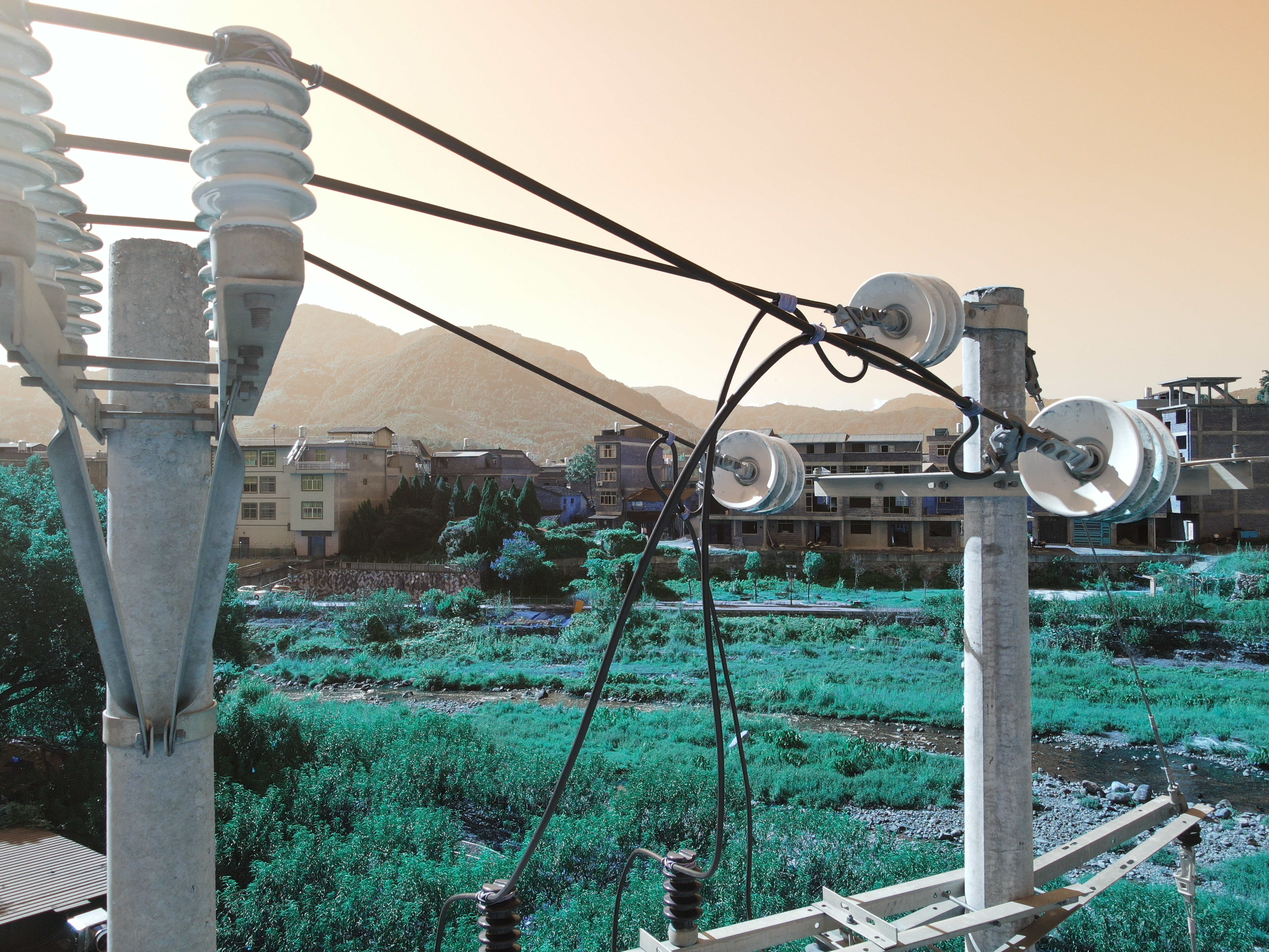severe_soiling_no_discharge_whole: (1014, 395, 1183, 523), (847, 269, 968, 370), (711, 429, 809, 515)
